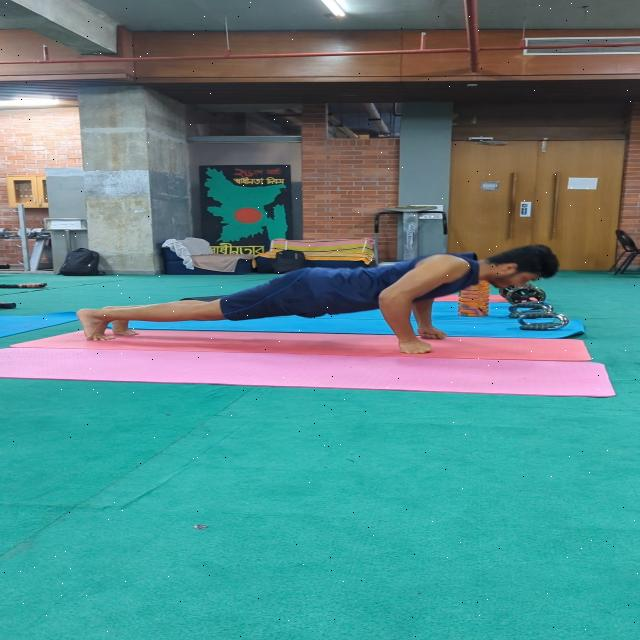Normal_PushUps: (68, 233, 563, 352)
